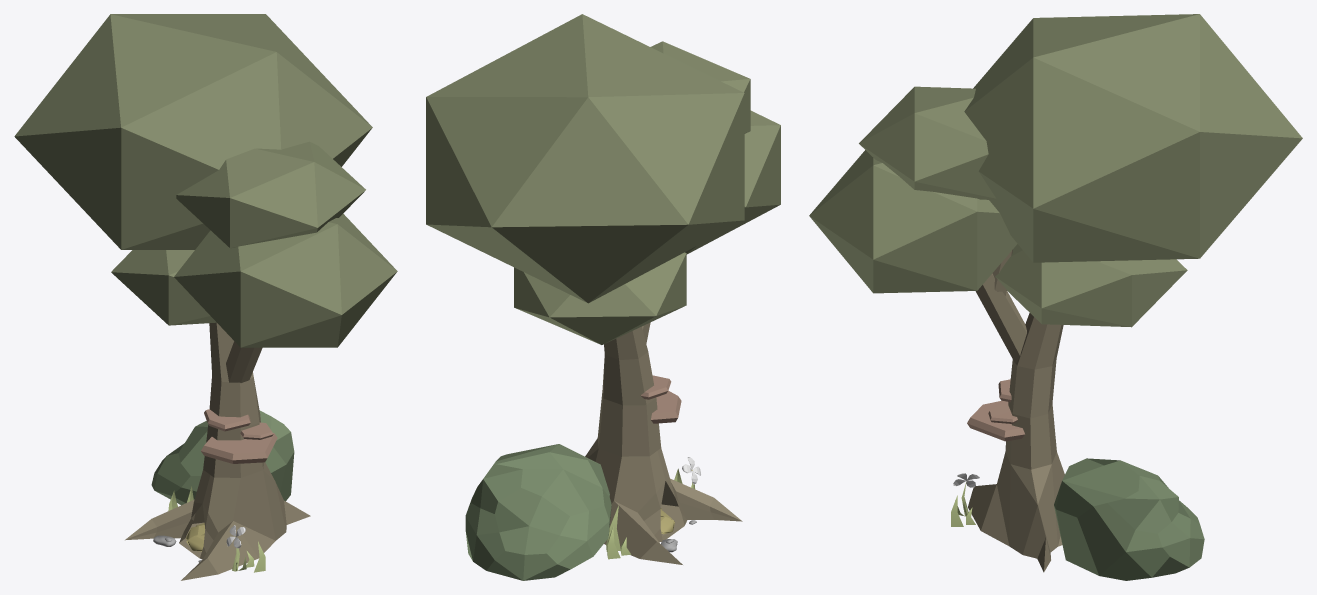
File: CawsonDwellingModel.fbx
3 renders of one model, left to right at view 1: azimuth 30°, elevation 25°; view 2: azimuth 150°, elevation 25°; view 3: azimuth 270°, elevation 25°, orthographic. The views are drawn at different scales.
Parts seen in each view (by area): view 1: CawsonDwelling2; view 2: CawsonDwelling2; view 3: CawsonDwelling2.
Boxes of the visible parts, x1,y1,x2,y2 form: CawsonDwelling2: [14, 14, 397, 580]; CawsonDwelling2: [426, 14, 780, 580]; CawsonDwelling2: [809, 14, 1302, 580].
Bounding box in the file's own units: 8.55 × 14.04 × 12.67.
